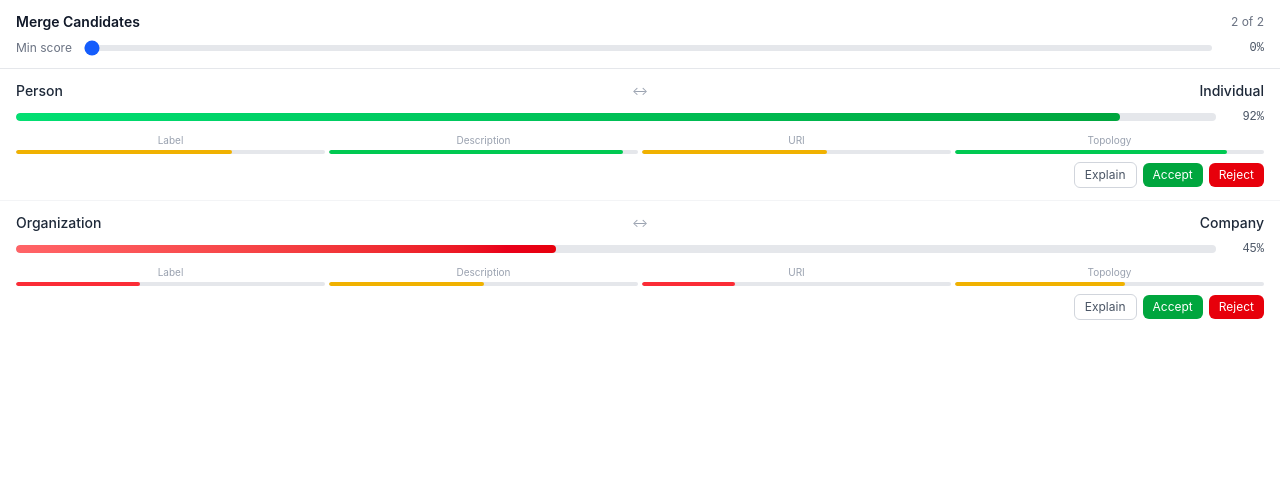
Test: MergeCandidates › shows explain panel when Explain is clicked
Click the button with test id "explain-btn-pair_001".
click(1105, 175)  # box [1074,162,1136,188]
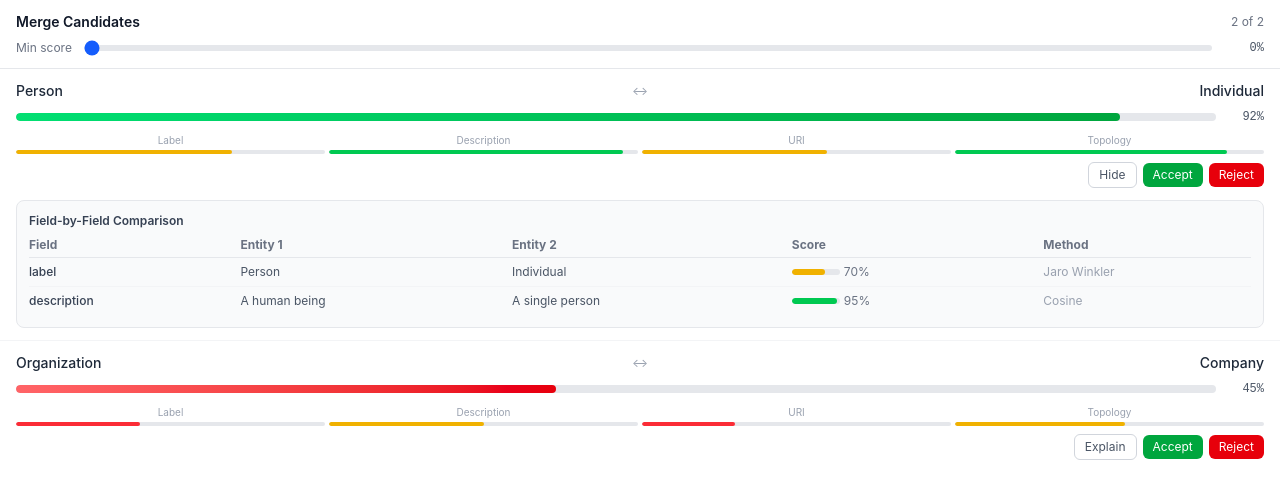
Result: the element with test id "explanation-pair_001" is shown at [16,200,1264,328]
Result: the table with test id "explanation-table" is shown at [29,237,1251,315]
Result: the text "label" is shown at [29,258,240,286]
